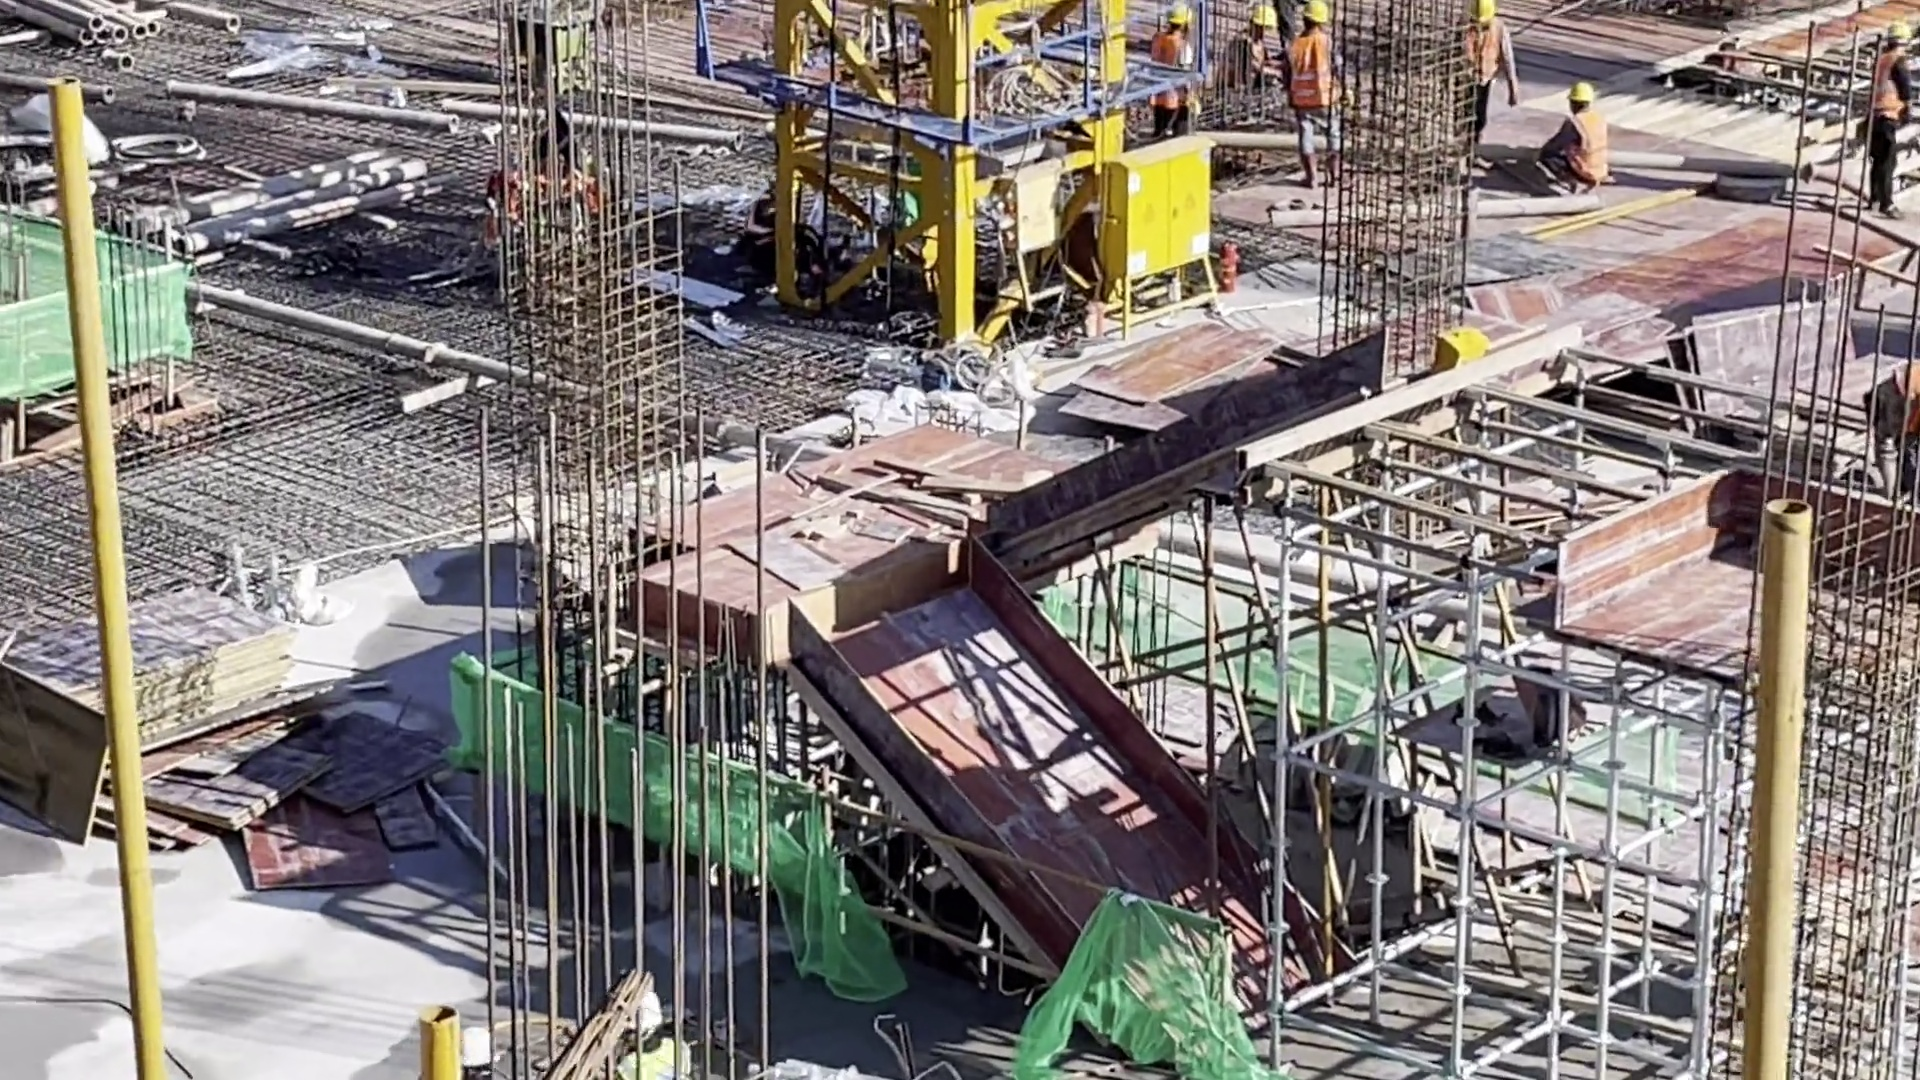helmet: (461, 1024, 502, 1067), (1302, 1, 1329, 22), (1166, 2, 1193, 24), (1250, 5, 1277, 26), (1472, 1, 1495, 23), (1885, 21, 1914, 38), (1568, 82, 1593, 102)
person: (1282, 1, 1351, 189), (1519, 76, 1610, 194), (1867, 19, 1912, 220), (1473, 1, 1518, 165), (1152, 1, 1197, 142), (1212, 1, 1283, 86)
vest: (1288, 33, 1335, 107), (1564, 112, 1609, 181), (1151, 30, 1187, 109), (1468, 21, 1500, 85), (1870, 52, 1900, 120)
